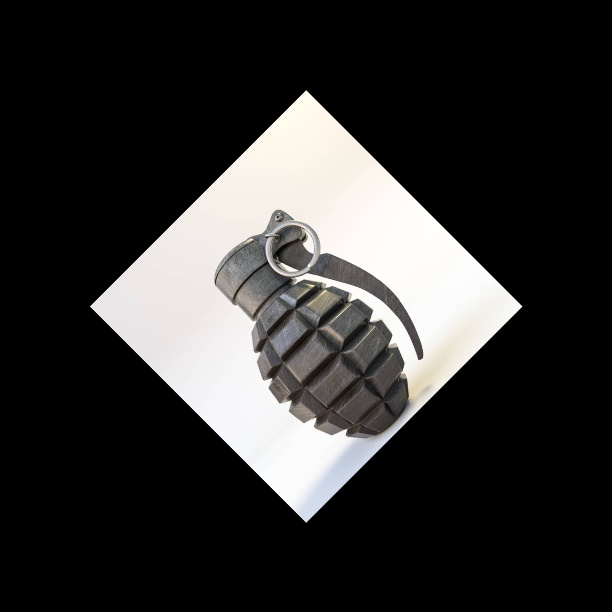e1: (212, 207, 424, 439)
